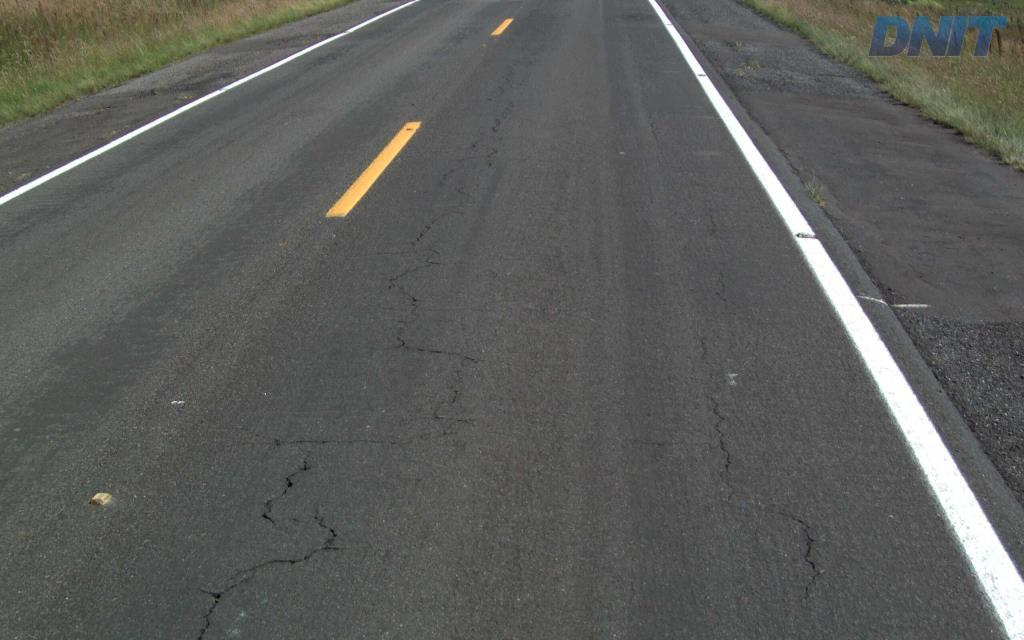crack: (196, 583, 237, 639), (790, 514, 820, 585)
